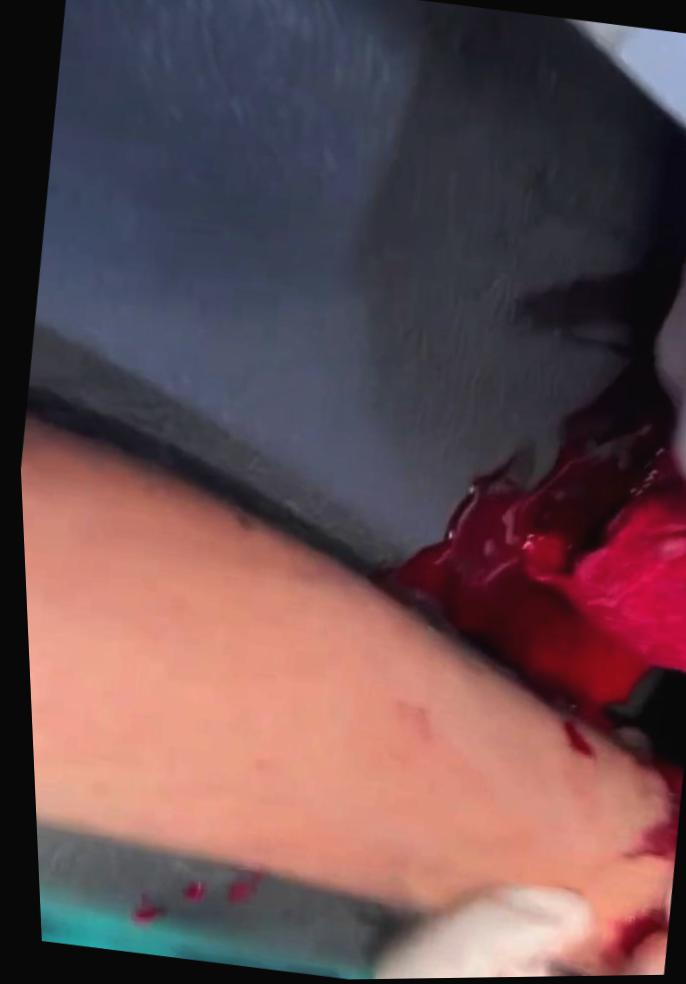Fire: (372, 368, 686, 766), (506, 758, 676, 978)
